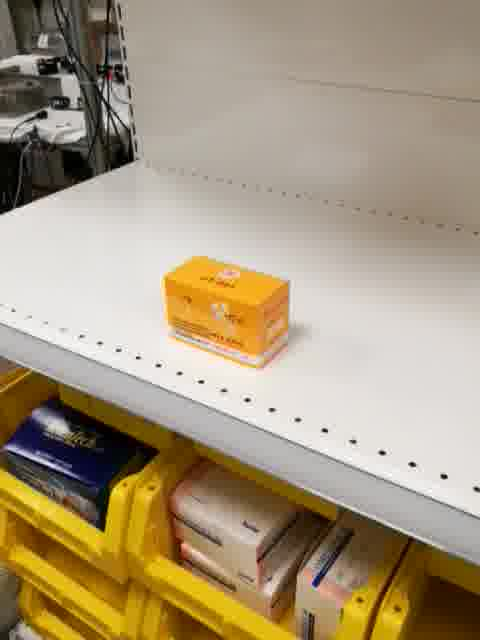jasminetea: (161, 253, 291, 372)
